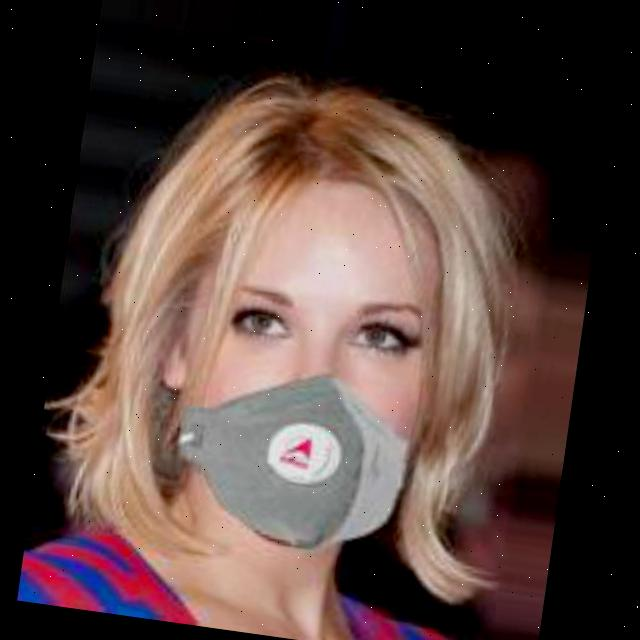suspicion: (84, 50, 553, 568)
